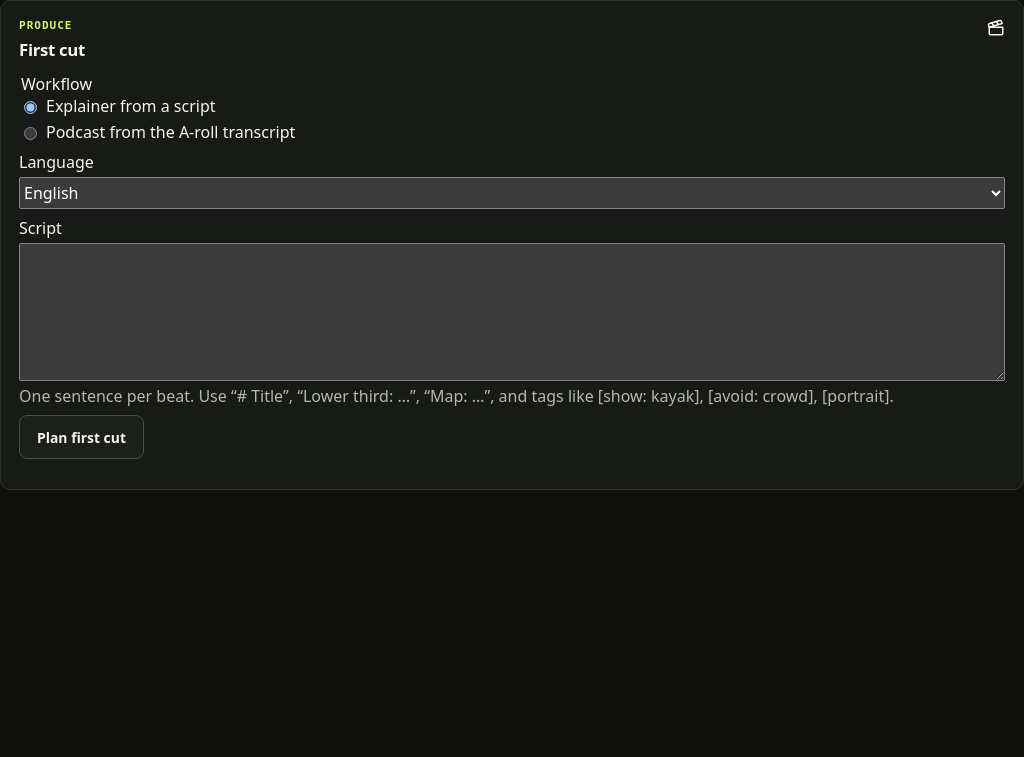
Test case: ProducePanel › plans a podcast cut across every fragment of a split A-roll
Click the radio button labelled "Podcast from the A-roll transcript" at point(30, 134), box [24, 127, 37, 140]
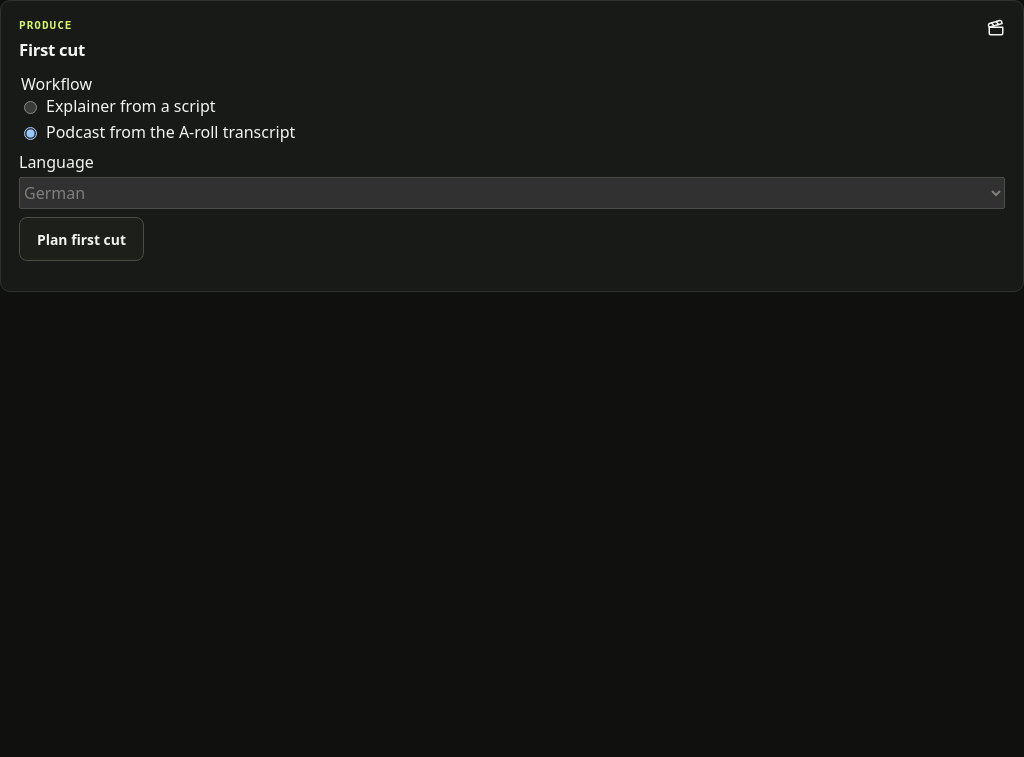
Click the button "Plan first cut" at point(82, 239), box [19, 217, 144, 261]
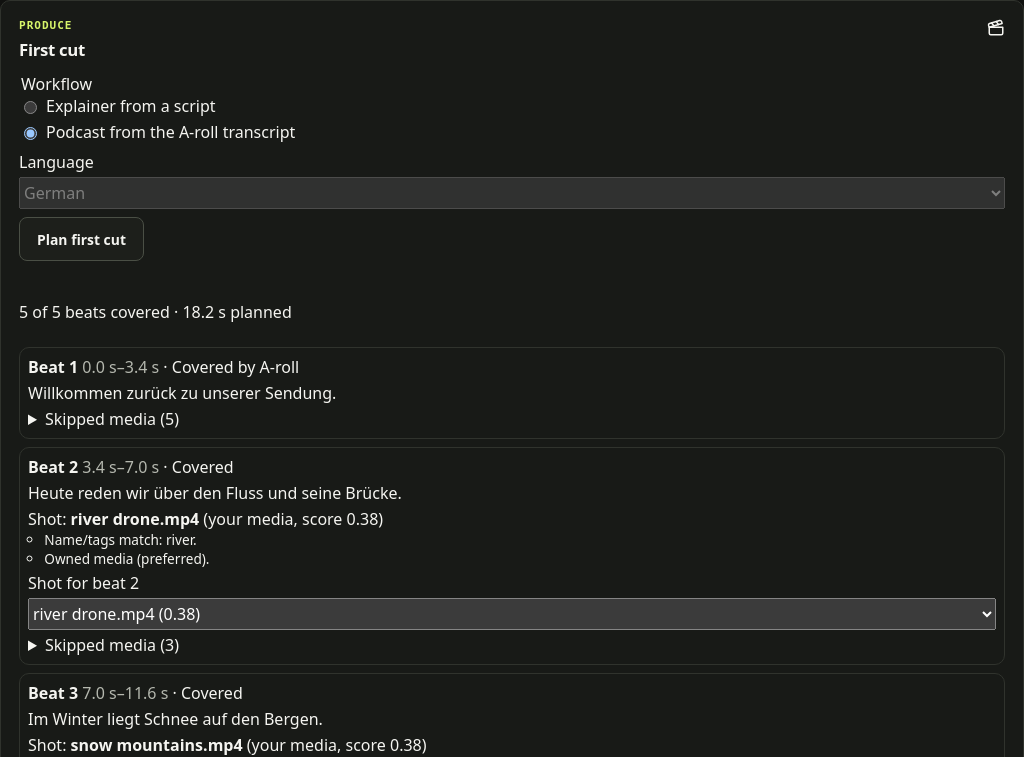
Expected: the text "Willkommen zurück zu unserer Sendung." is shown, [28, 382, 336, 404]
Expected: the text "Beat 1 0.0 s–3.4 s · Covered by A-roll" is shown 3 times
